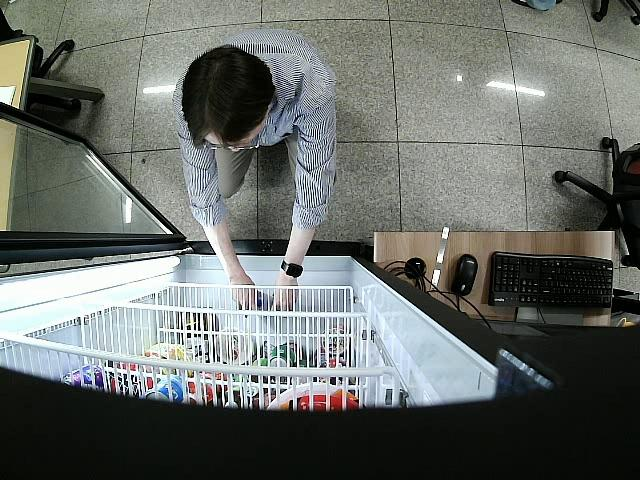00_hand: (229, 276, 260, 309), (273, 283, 299, 313)
